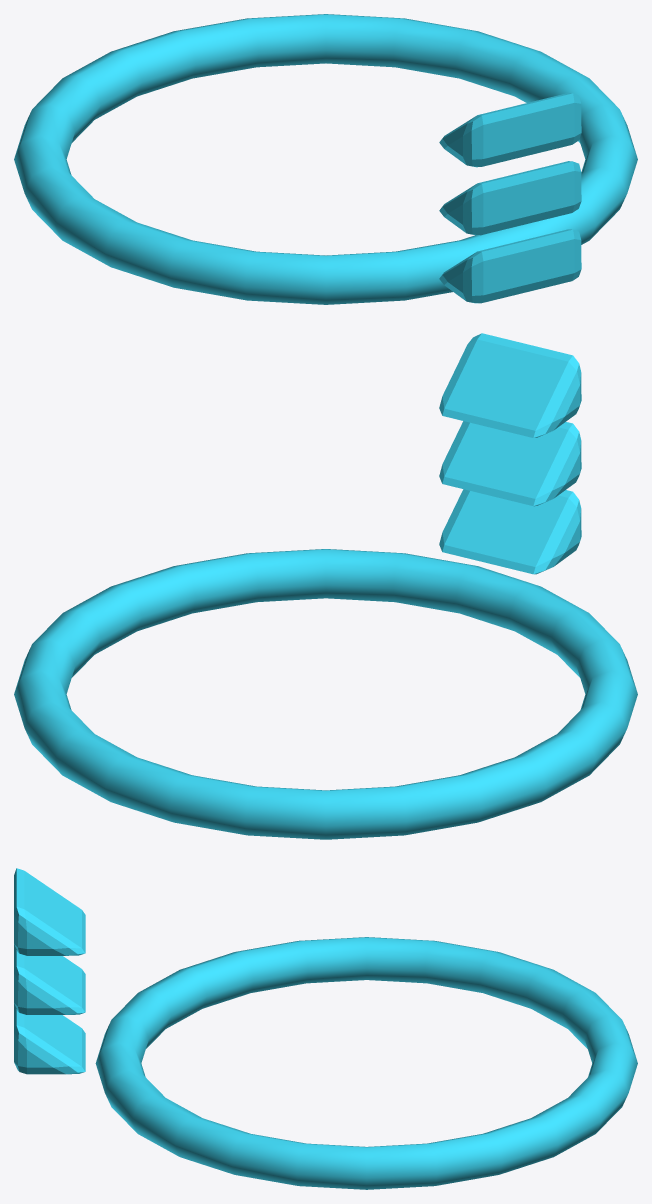
File: InteractionMarker.fbx
3 renders of one model, top to bottom at view 1: azimuth 30°, elevation 25°; view 2: azimuth 150°, elevation 25°; view 3: azimuth 270°, elevation 25°, orthographic. The views are drawn at different scales.
Parts seen in each view (by area): view 1: InteractionRing, Arrow_1, Arrow_0, Arrow_2; view 2: InteractionRing, Arrow_2, Arrow_0, Arrow_1; view 3: InteractionRing, Arrow_2, Arrow_0, Arrow_1.
Part boxes in pixels (x1,y1,x2,y2): InteractionRing: (14, 14, 637, 304); Arrow_1: (439, 161, 581, 235); Arrow_0: (439, 229, 581, 303); Arrow_2: (439, 93, 581, 167); InteractionRing: (14, 549, 637, 839); Arrow_2: (439, 333, 581, 437); Arrow_0: (439, 489, 581, 574); Arrow_1: (439, 421, 581, 506); InteractionRing: (95, 937, 637, 1189); Arrow_2: (14, 868, 85, 955); Arrow_0: (14, 1003, 85, 1074); Arrow_1: (14, 944, 85, 1014).
Bounding box in the file's own units: 0.83 × 0.3323 × 0.955.
